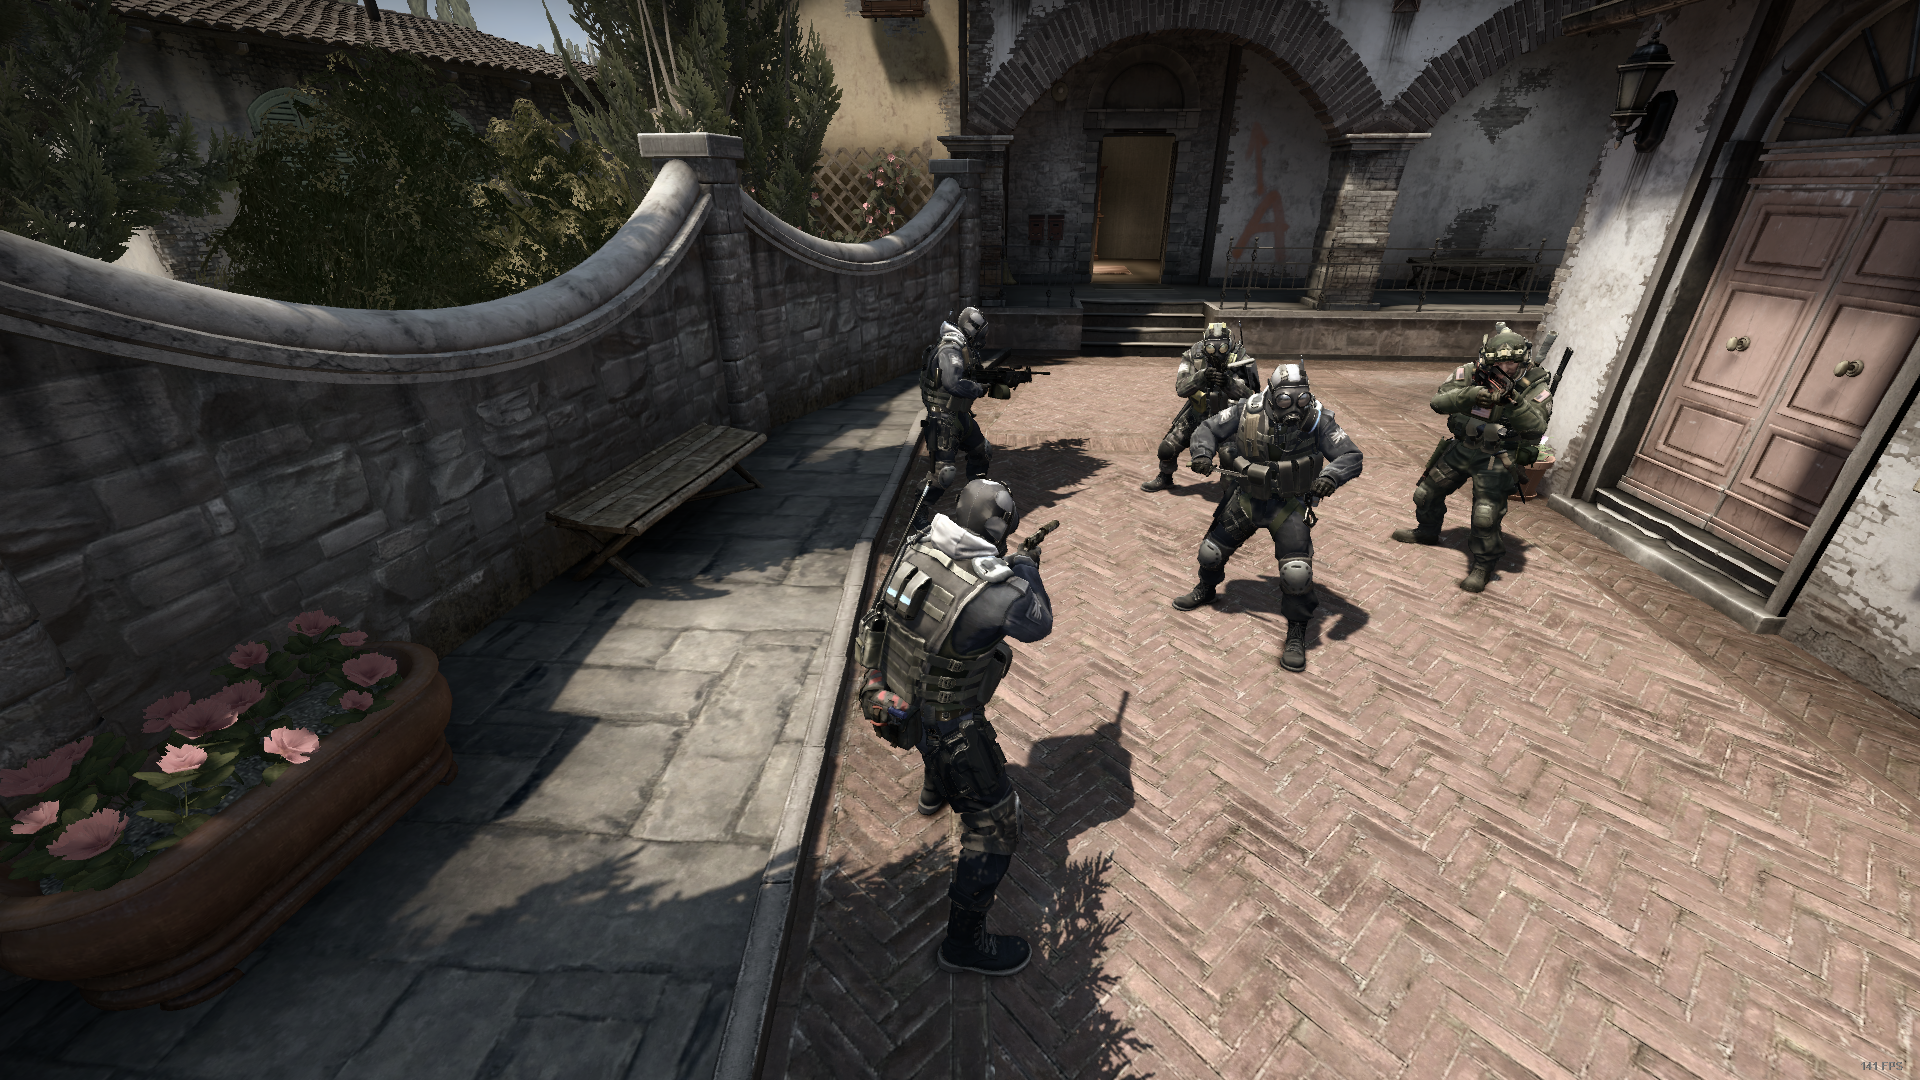ct: (864, 473, 1051, 977), (1193, 365, 1364, 683), (1142, 323, 1261, 502), (911, 305, 1005, 483)
